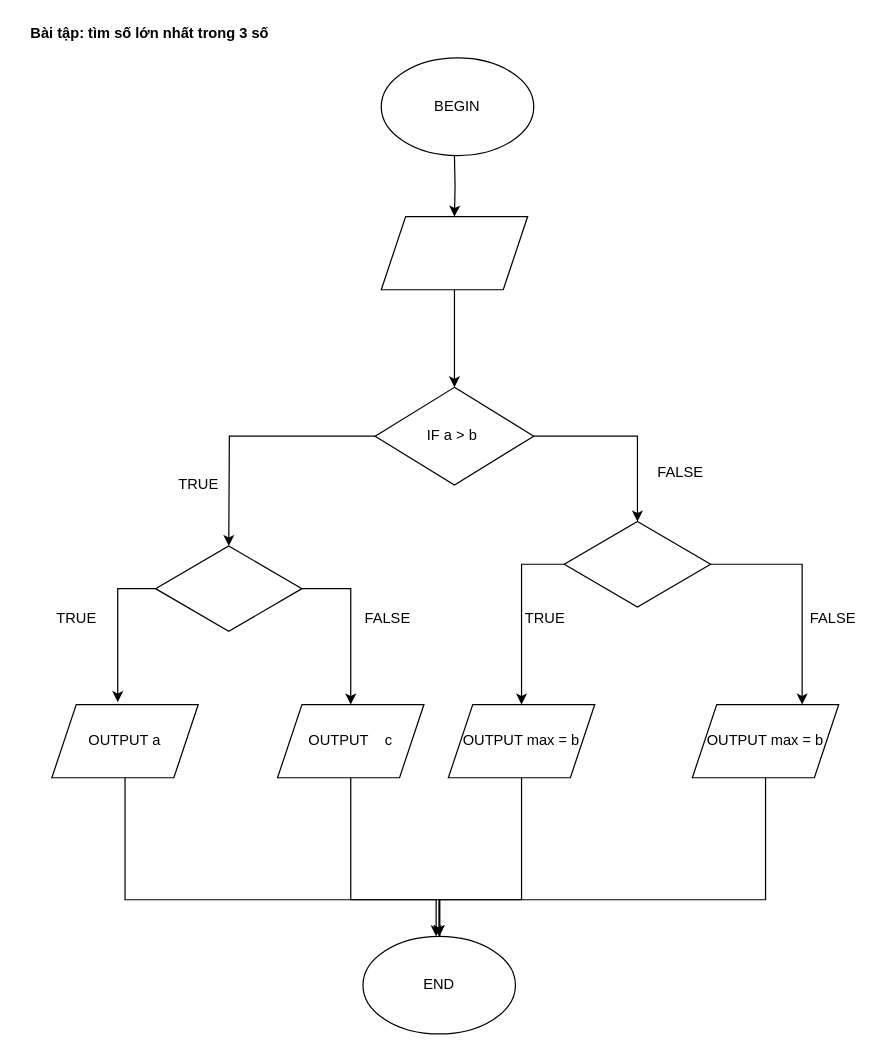
Image size: 883x1055. Some labels were removed from this diagram. The shapes that lost their labels are listed below. From the top down, each one's centre as x and y in pixels, then its label:
the point at 454,252: INPUT a, b, c
the point at 637,563: IF b > c
the point at 228,588: IF a > c
